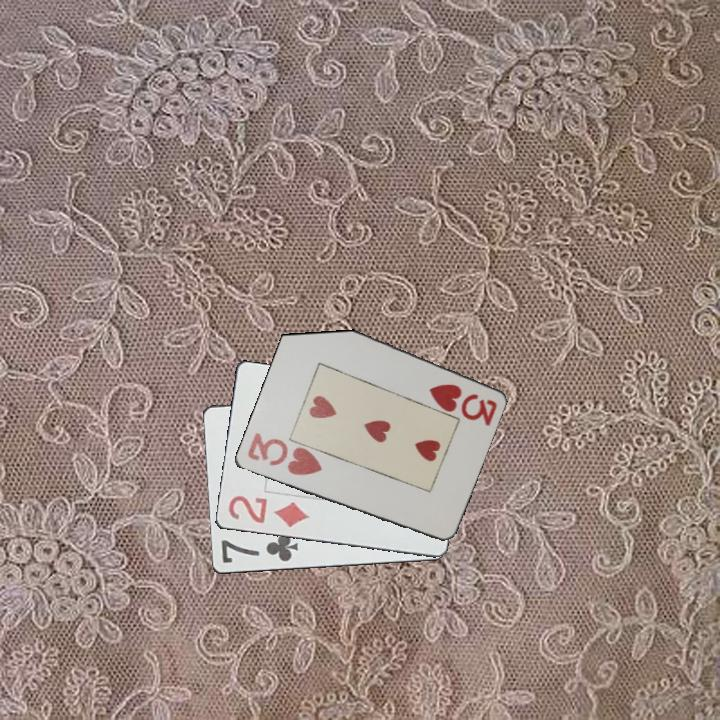2d: (224, 492, 312, 531)
3h: (243, 429, 325, 479), (425, 380, 500, 427)
7c: (217, 530, 301, 566)
